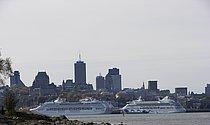Ship: (24, 93, 119, 120), (125, 93, 192, 118)
